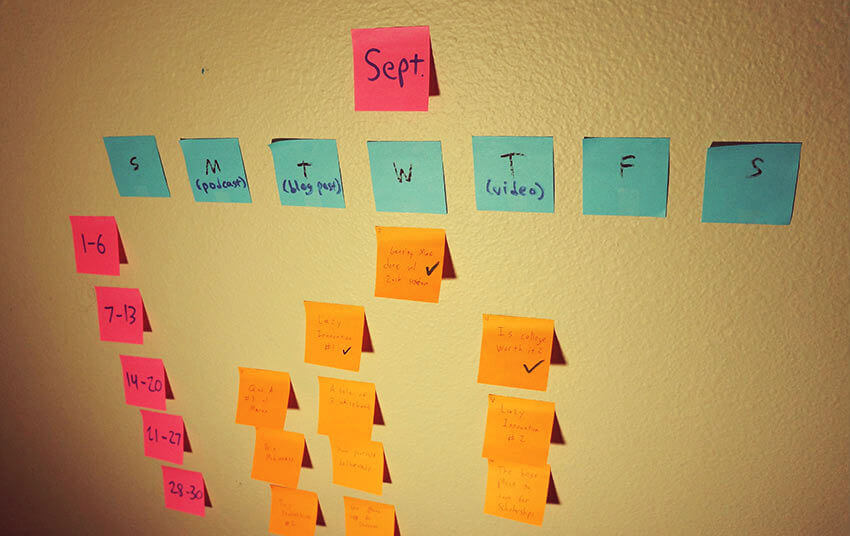stickynote: (572, 126, 679, 233), (463, 128, 570, 230), (699, 137, 806, 239), (345, 19, 444, 123), (474, 303, 568, 398), (358, 129, 449, 221), (258, 126, 353, 212), (367, 221, 449, 305), (178, 123, 255, 212), (99, 130, 181, 208), (481, 391, 565, 467), (481, 455, 562, 532), (299, 296, 375, 374), (313, 376, 390, 444), (90, 279, 162, 347), (67, 212, 134, 280), (327, 430, 392, 495), (231, 364, 292, 433), (247, 422, 307, 490), (115, 352, 180, 412), (136, 405, 191, 468), (265, 482, 322, 536), (158, 462, 212, 519), (340, 495, 396, 536)
